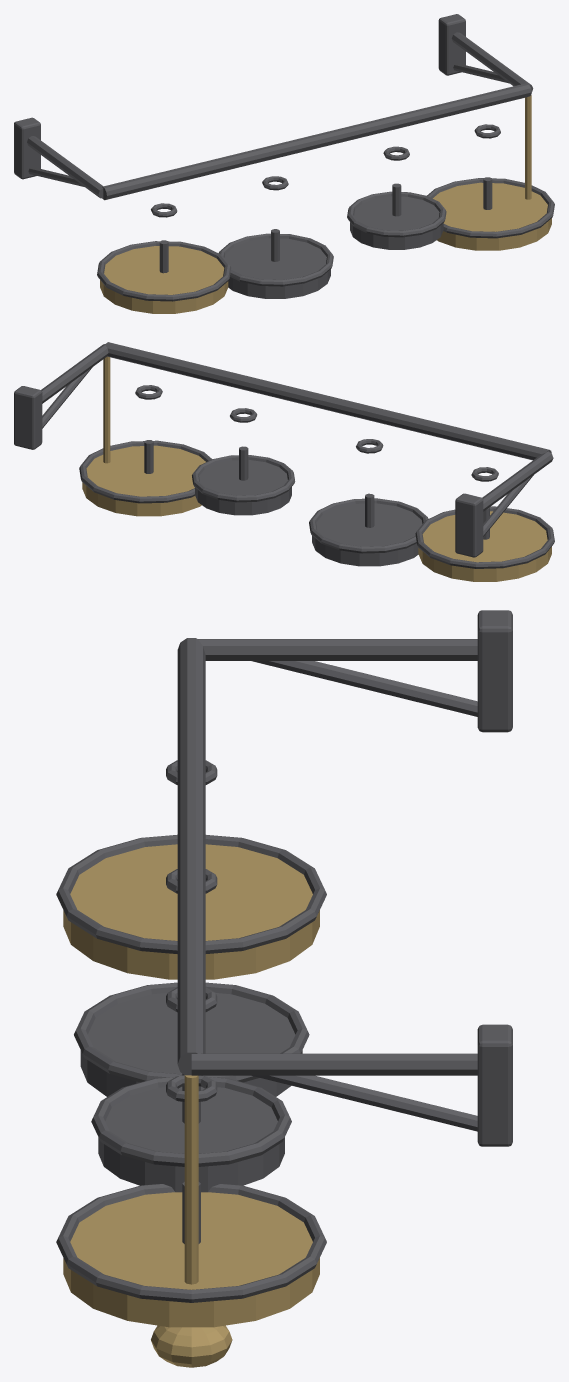
The picture shows the model from 3 angles, top to bottom: view 1: azimuth 30°, elevation 25°; view 2: azimuth 150°, elevation 25°; view 3: azimuth 270°, elevation 25°; orthographic projection. The views are drawn at different scales.
Parts seen in each view (by area): view 1: potRack; view 2: potRack; view 3: potRack.
Boxes of the visible parts, box(x1,y1,x2,y2) form: potRack: box(14, 14, 554, 313); potRack: box(14, 342, 554, 581); potRack: box(56, 610, 512, 1367).
Size of the model in its own units: 0.896 by 0.311 by 0.391.
